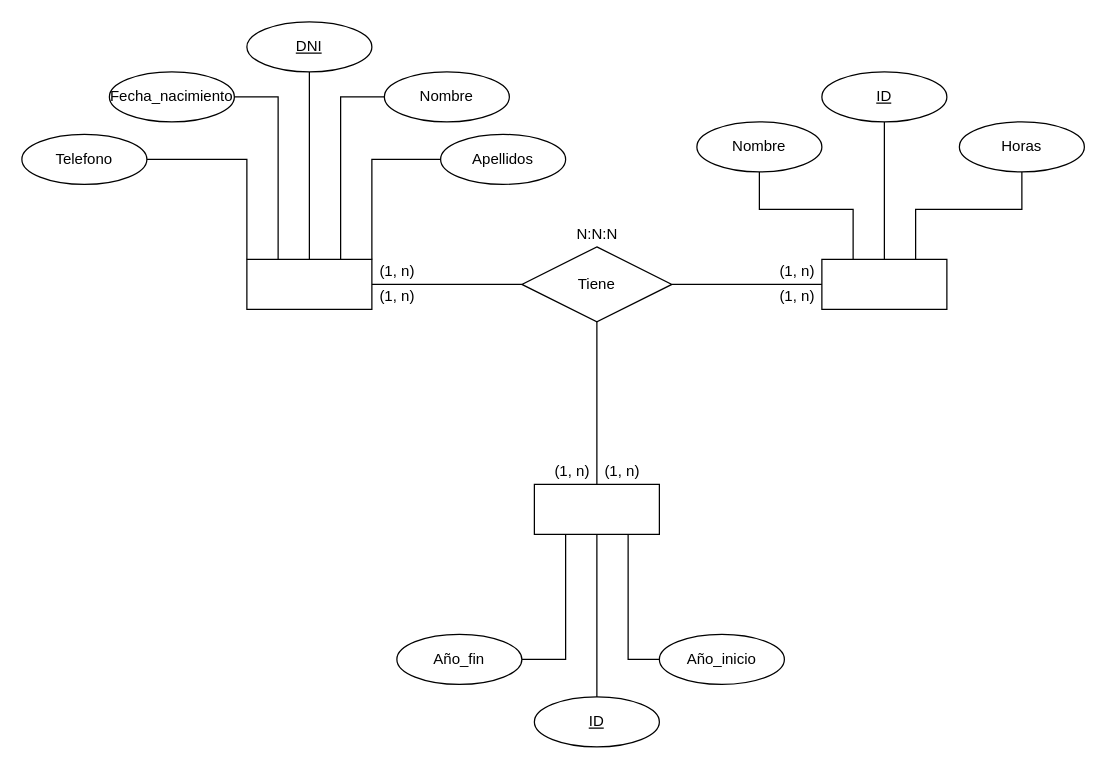
Some shapes in this 1106 by 769 pixel diagram are drawn without their labels. The box of each missing label's shape, as (x1, y1, x2, y2) in pixels:
Asignatura: (821, 258, 947, 309)
Curso: (533, 483, 659, 534)
Hospital: (246, 258, 372, 309)
